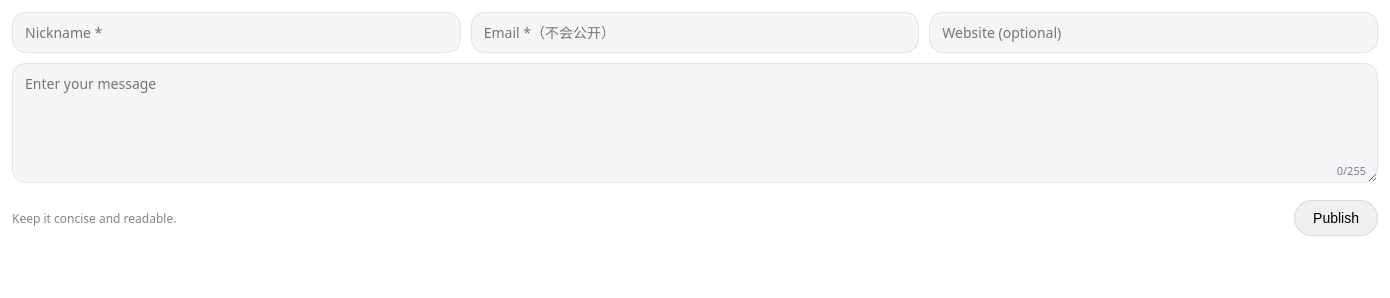
Test: CommentForm › shows a slow-down hint on 429
In the field named "昵称": (236, 32) [12,12,461,53], type "访客"
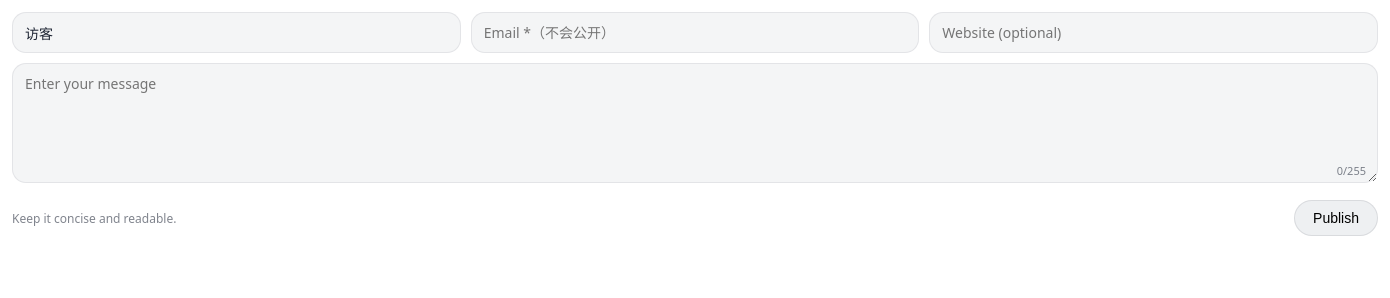
In the field named "邮箱": (695, 32) [471,12,919,53], type "a@example.com"
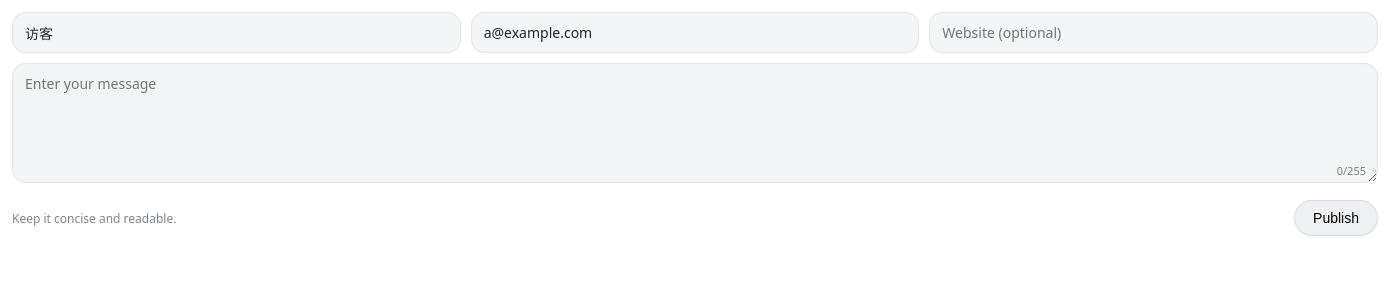
In the text box named "内容": (695, 123) [12,63,1378,183], type "写得好"
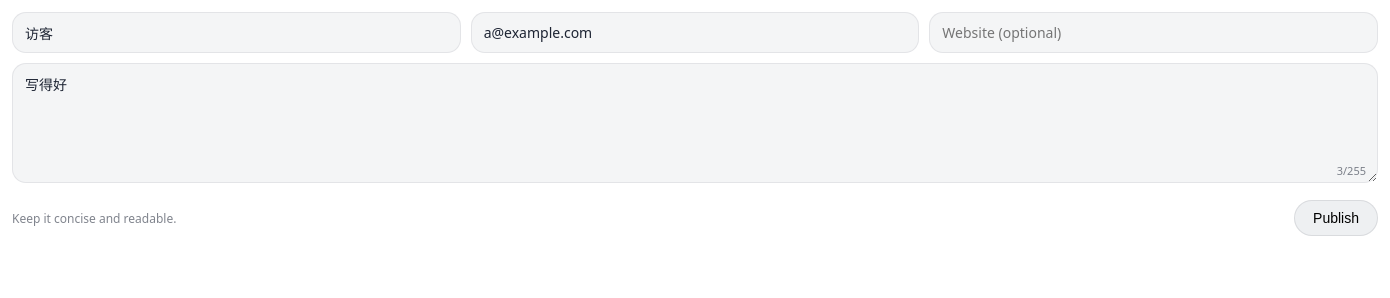
Click the button "Publish": click(1336, 218) [1294,200,1378,236]
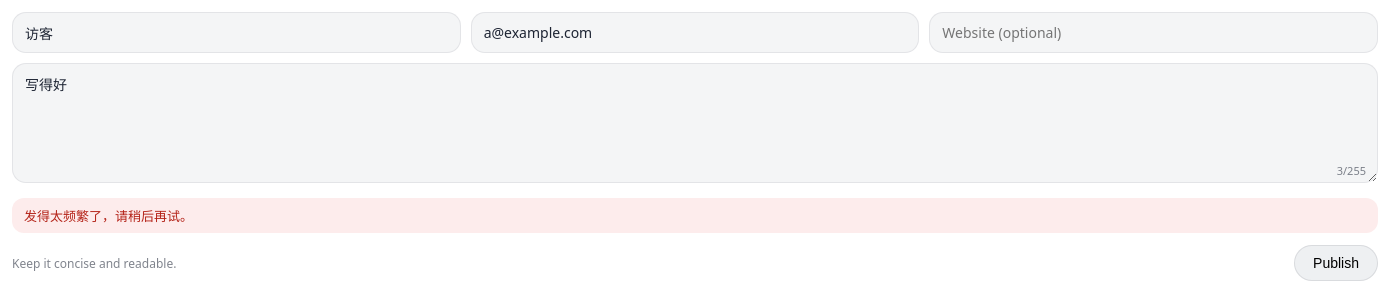
Check: the message shows "发得太频繁了，请稍后再试", box [24,207,193,225]
